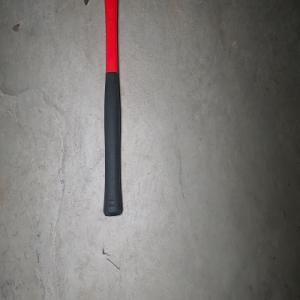Hammer: (85, 0, 143, 217)
